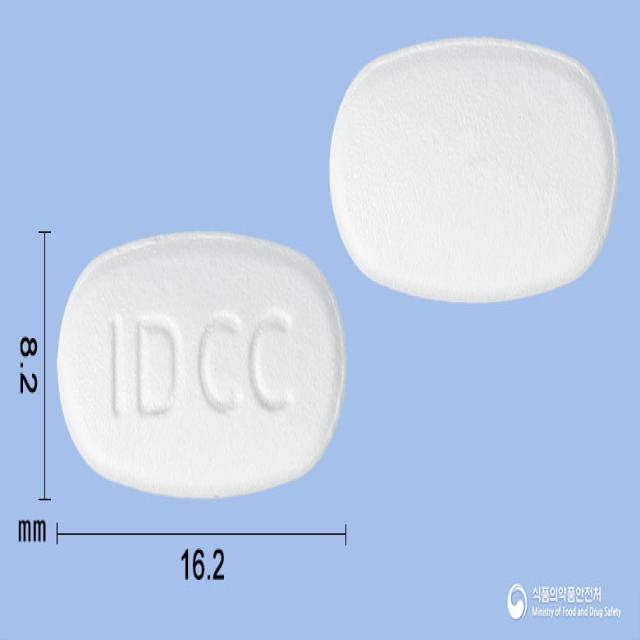Cycin: (56, 226, 348, 500), (327, 34, 618, 306)
